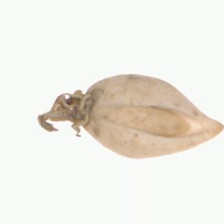L1: (36, 88, 96, 136), (208, 111, 224, 142)
L2: (37, 74, 224, 160)
